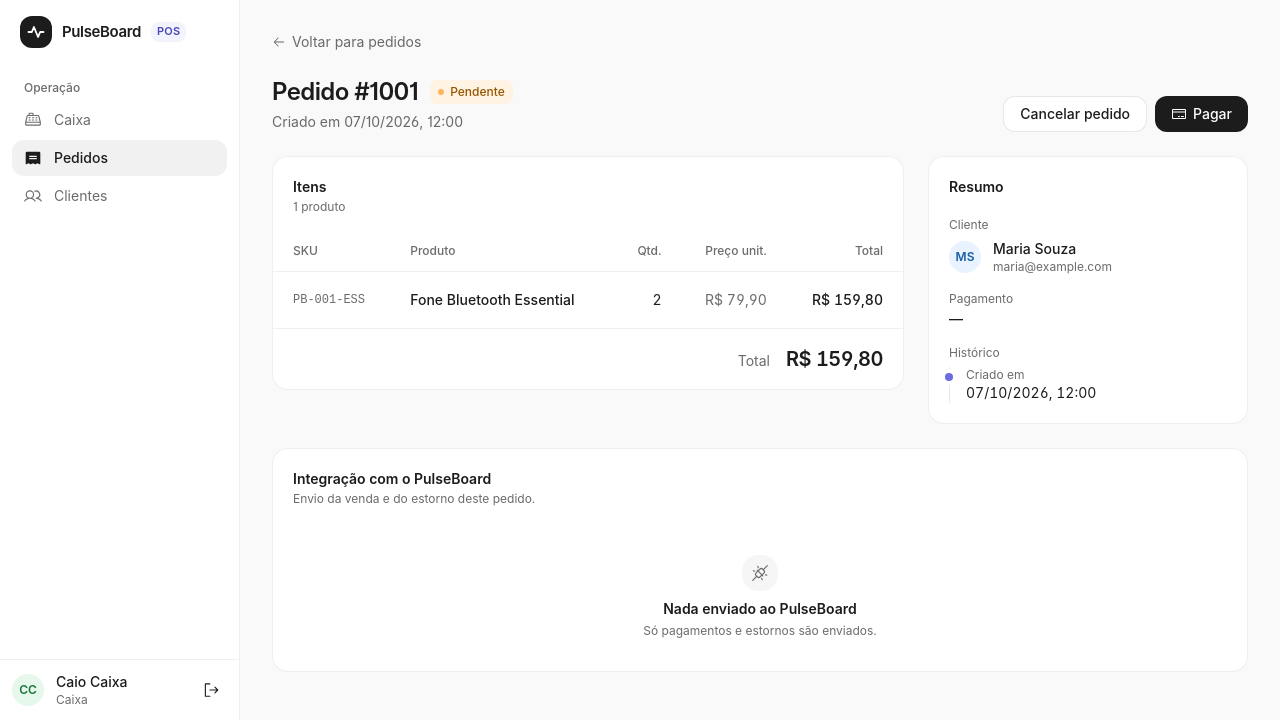
orders › shows the conflict message when the order changed meanwhile
The width and height of the screenshot is (1280, 720).
Step 1. Click the button "Cancelar pedido" → [1075, 114], box x1=1003 y1=96 x2=1147 y2=132
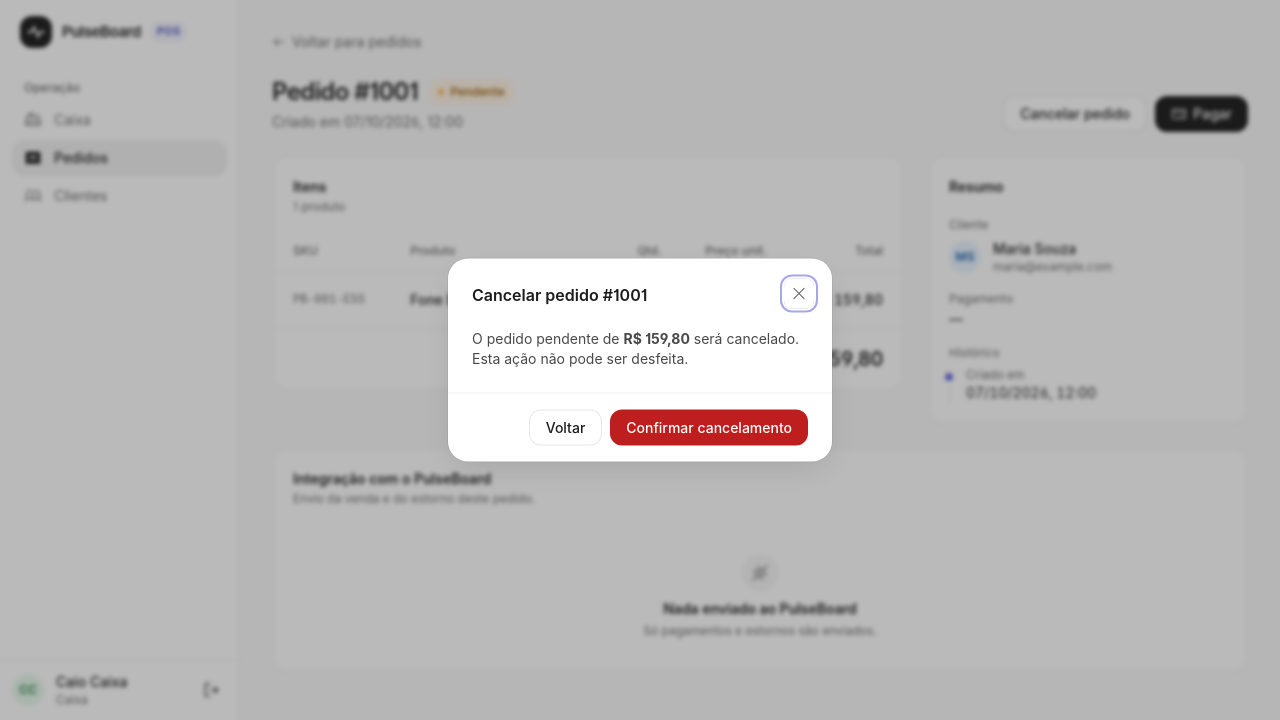
Step 2. Click the button "Confirmar cancelamento" → [709, 428], box x1=610 y1=410 x2=808 y2=446
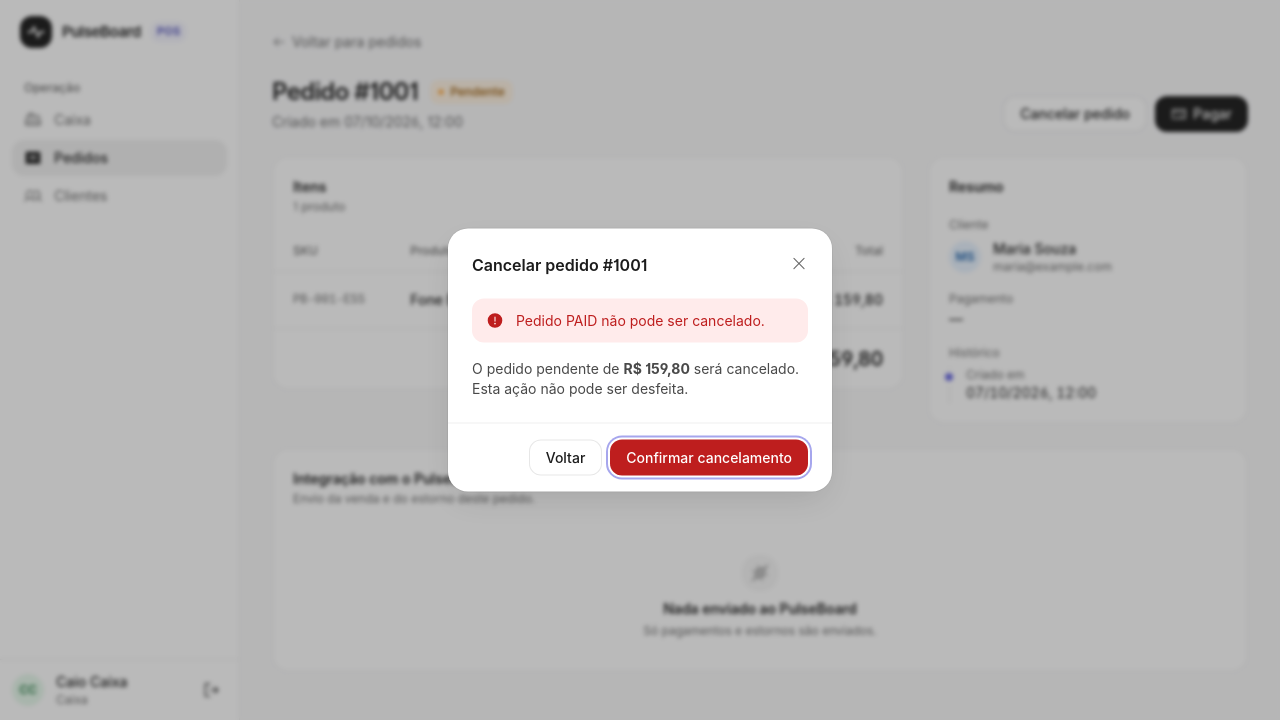
Result: the message reads "Pedido PAID não pode ser cancelado." at x1=516 y1=312 x2=765 y2=328
